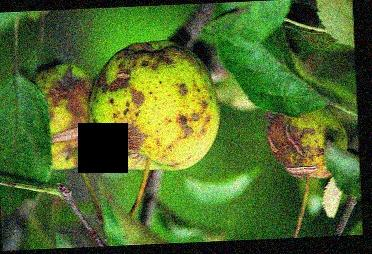rotten apple: (88, 37, 224, 171), (19, 59, 98, 173), (262, 100, 354, 179)
